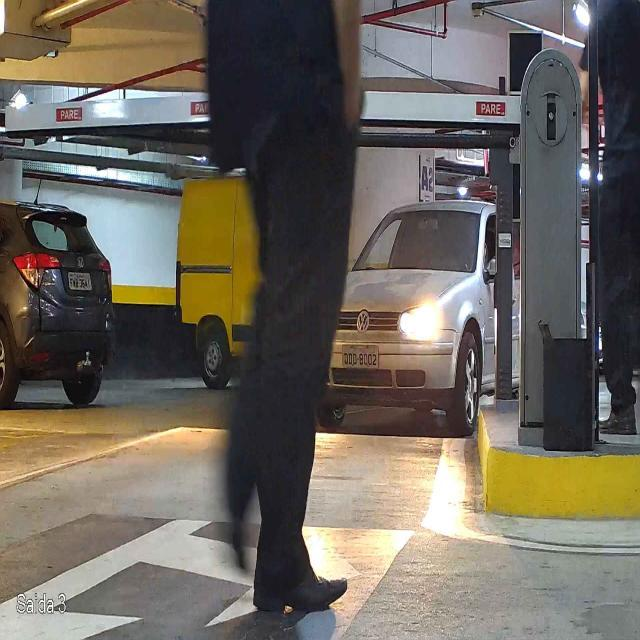old_plate: (341, 344, 380, 369)
